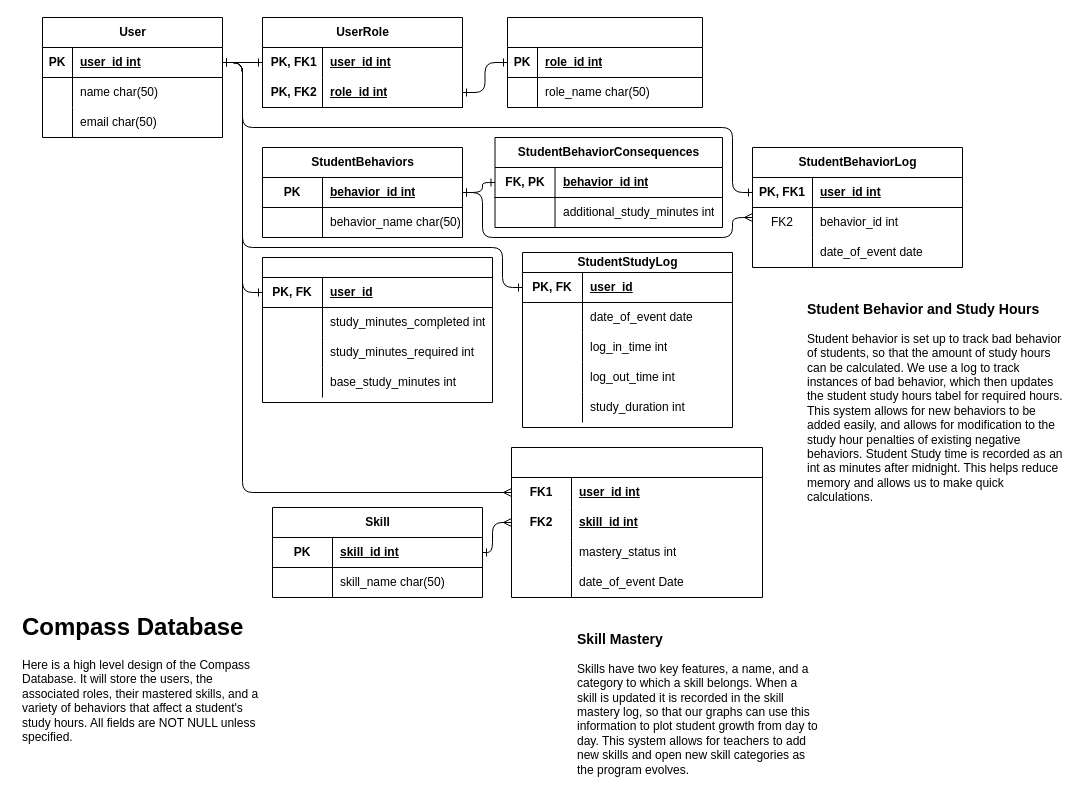
Image size: 1089x795. Some labels were removed from this diagram. Here are the shapes that lost their labels. From the top down, the box of each, then its label:
(506, 16, 702, 108): UserRoles
(262, 256, 492, 402): Student
(510, 446, 762, 598): SkillMasteryLog
